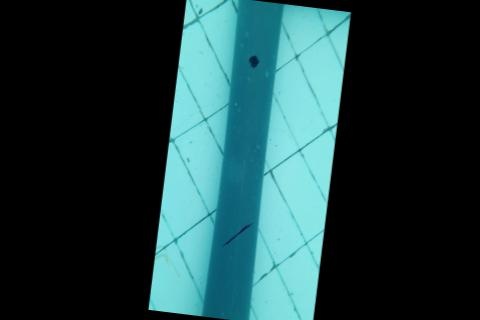kebocoran: (245, 52, 261, 70)
keretakan: (221, 217, 253, 252)
